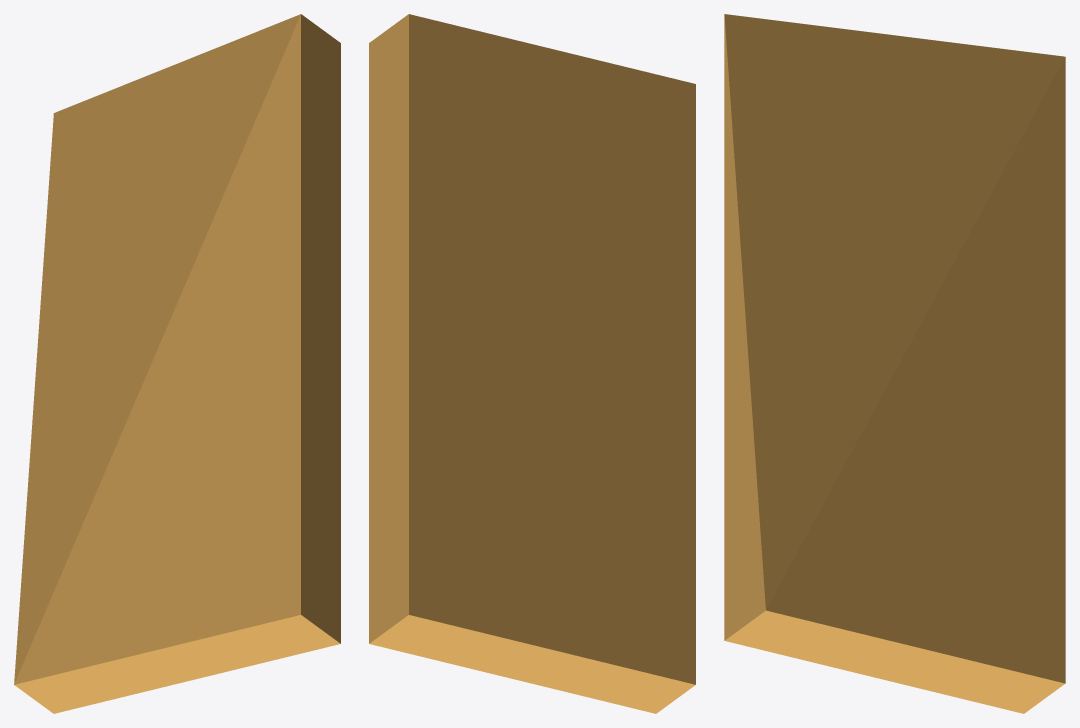
The model's file is gg-authored-axe.gltf.
3 renders of one model, left to right at view 1: azimuth 30°, elevation 25°; view 2: azimuth 150°, elevation 25°; view 3: azimuth 330°, elevation 25°, orthographic. The views are drawn at different scales.
Parts seen in each view (by area): view 1: GGTidebreakerAxe; view 2: GGTidebreakerAxe; view 3: GGTidebreakerAxe.
Boxes of the visible parts, x1,y1,x2,y2 form: GGTidebreakerAxe: [14, 14, 340, 713]; GGTidebreakerAxe: [369, 14, 695, 713]; GGTidebreakerAxe: [724, 14, 1065, 713].
Bounding box in the file's own units: 1 × 2 × 0.24.
